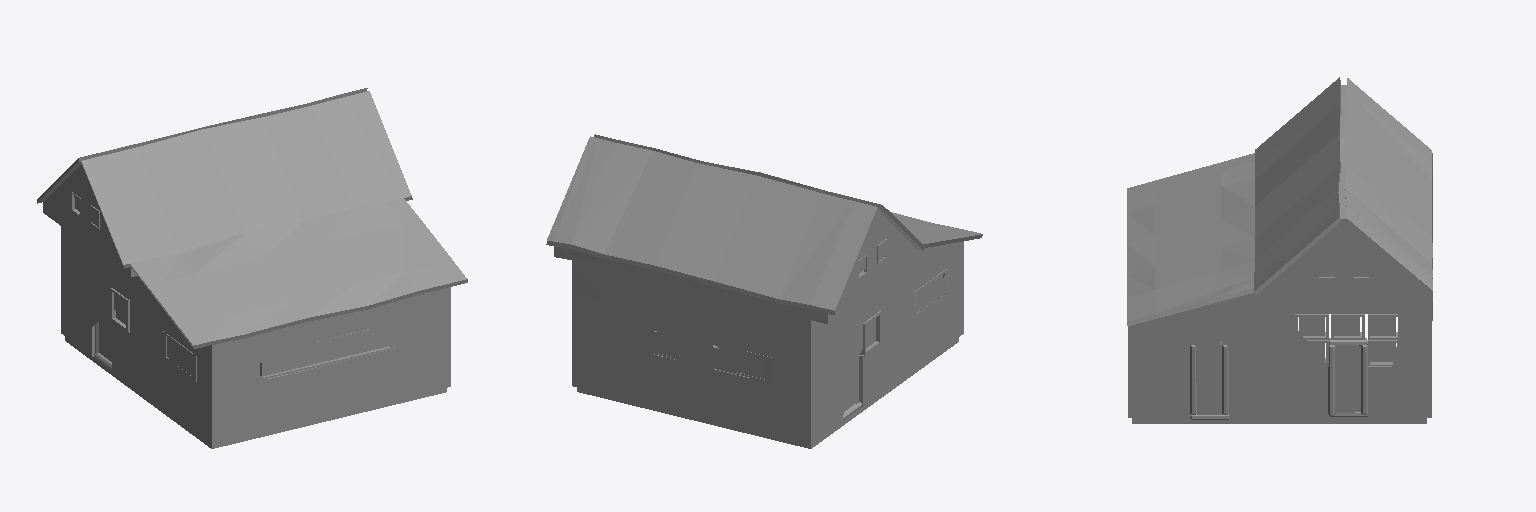
File: blue_rock.obj
3 renders of one model, left to right at view 1: azimuth 30°, elevation 25°; view 2: azimuth 150°, elevation 25°; view 3: azimuth 270°, elevation 25°, orthographic.
Parts seen in each view (by area): view 1: Cube.000; view 2: Cube.000; view 3: Cube.000.
Part boxes in pixels (left/top/right/bottom): Cube.000: left=37, top=88, right=467, bottom=448; Cube.000: left=546, top=134, right=982, bottom=448; Cube.000: left=1127, top=77, right=1432, bottom=423.
Size of the model in its own units: 8.55 by 6.24 by 7.82.